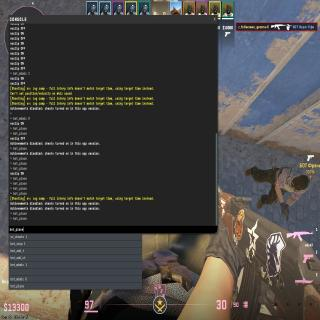T-Body: (249, 165, 316, 208)
T-Head: (292, 174, 310, 190)
